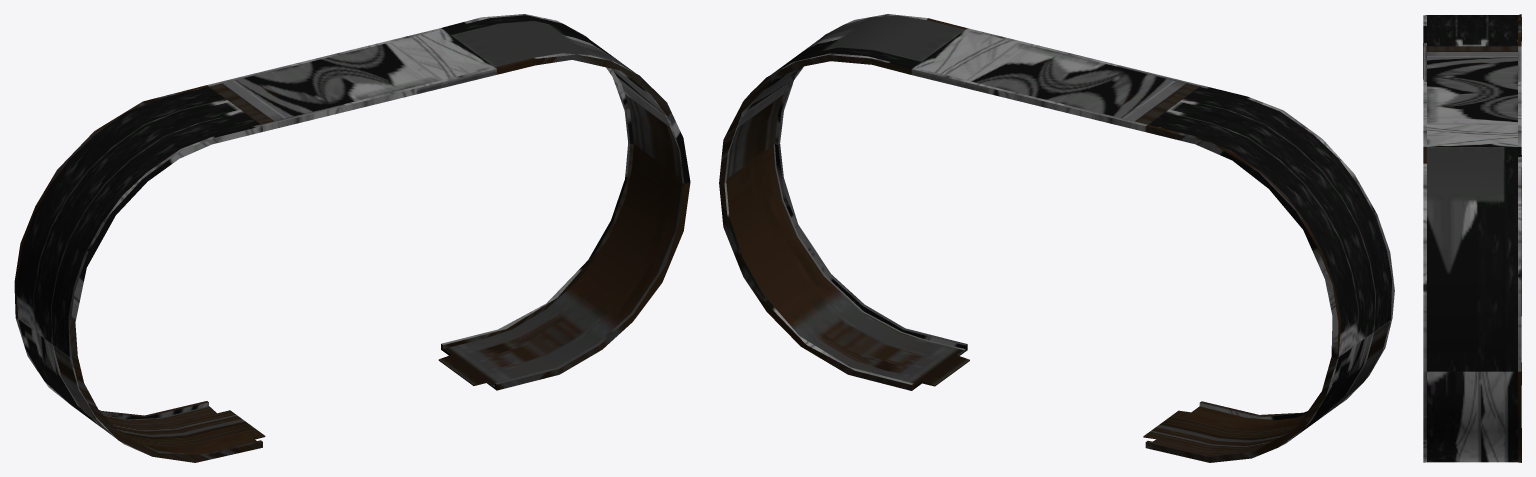
The model's file is SM_Wall10.gltf.
3 views of the same model, side by side, from view 1: azimuth 30°, elevation 25°; view 2: azimuth 150°, elevation 25°; view 3: azimuth 270°, elevation 25° (orthographic). The views are drawn at different scales.
Parts seen in each view (by area): view 1: SM_Wall10; view 2: SM_Wall10; view 3: SM_Wall10.
Boxes of the visible parts, left/top/right/bottom form: SM_Wall10: left=14, top=14, right=690, bottom=462; SM_Wall10: left=719, top=14, right=1394, bottom=462; SM_Wall10: left=1423, top=14, right=1521, bottom=462.
Size of the model in its own units: 13.15 by 6.53 by 2.06.
1 material, 1 textured.
